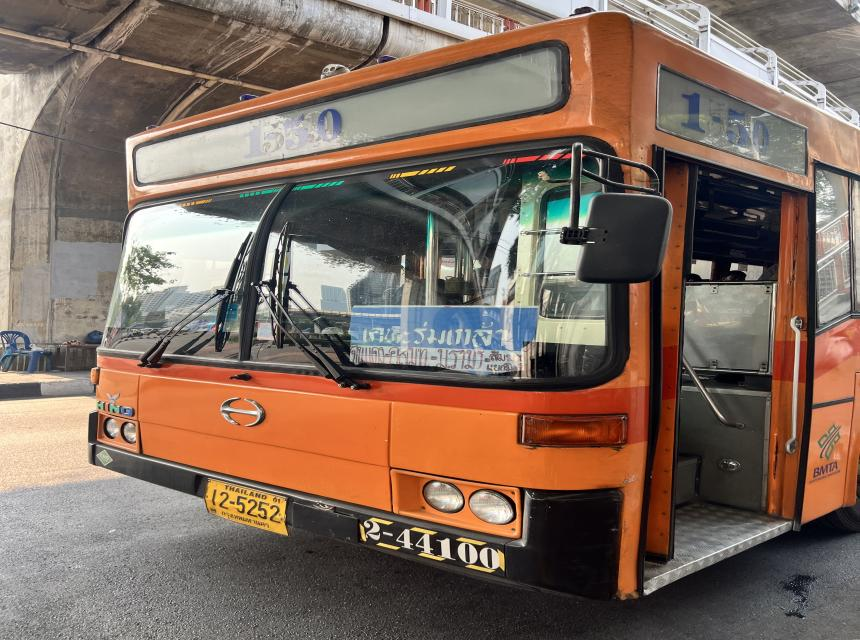BMTA-bus: (84, 12, 860, 604)
Bus Line Number: (225, 97, 351, 168)
Bus Side Number: (352, 515, 510, 588)
Destination Sign: (348, 304, 538, 385)
